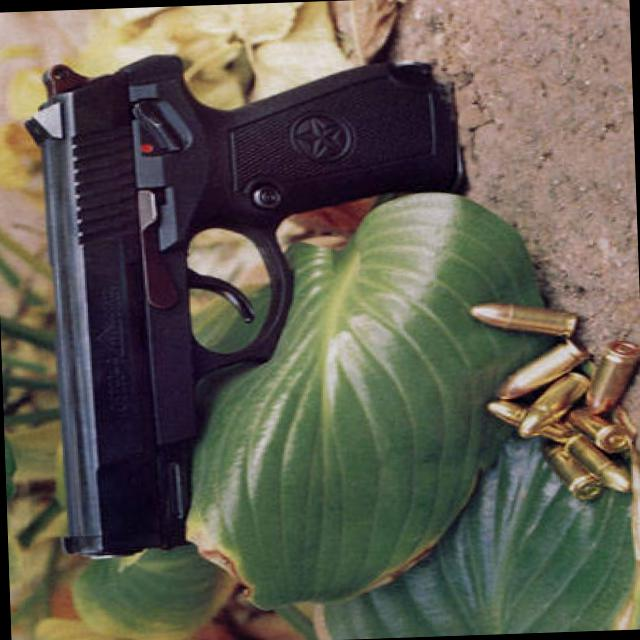handgun: (19, 43, 478, 562)
